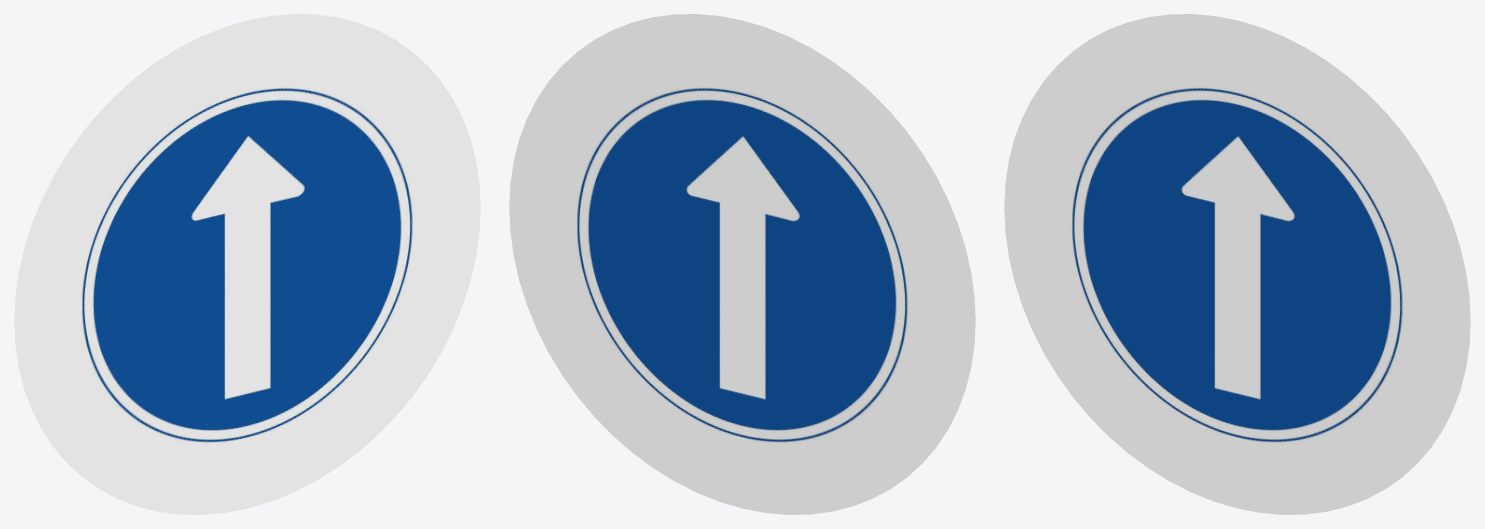
Rendered from straight.glb.
The picture shows the model from 3 angles, left to right: view 1: azimuth 30°, elevation 25°; view 2: azimuth 150°, elevation 25°; view 3: azimuth 330°, elevation 25°; orthographic projection.
Size of the model in its own units: 1 by 1 by 0.
Materials: 2 (2 with a texture image).
